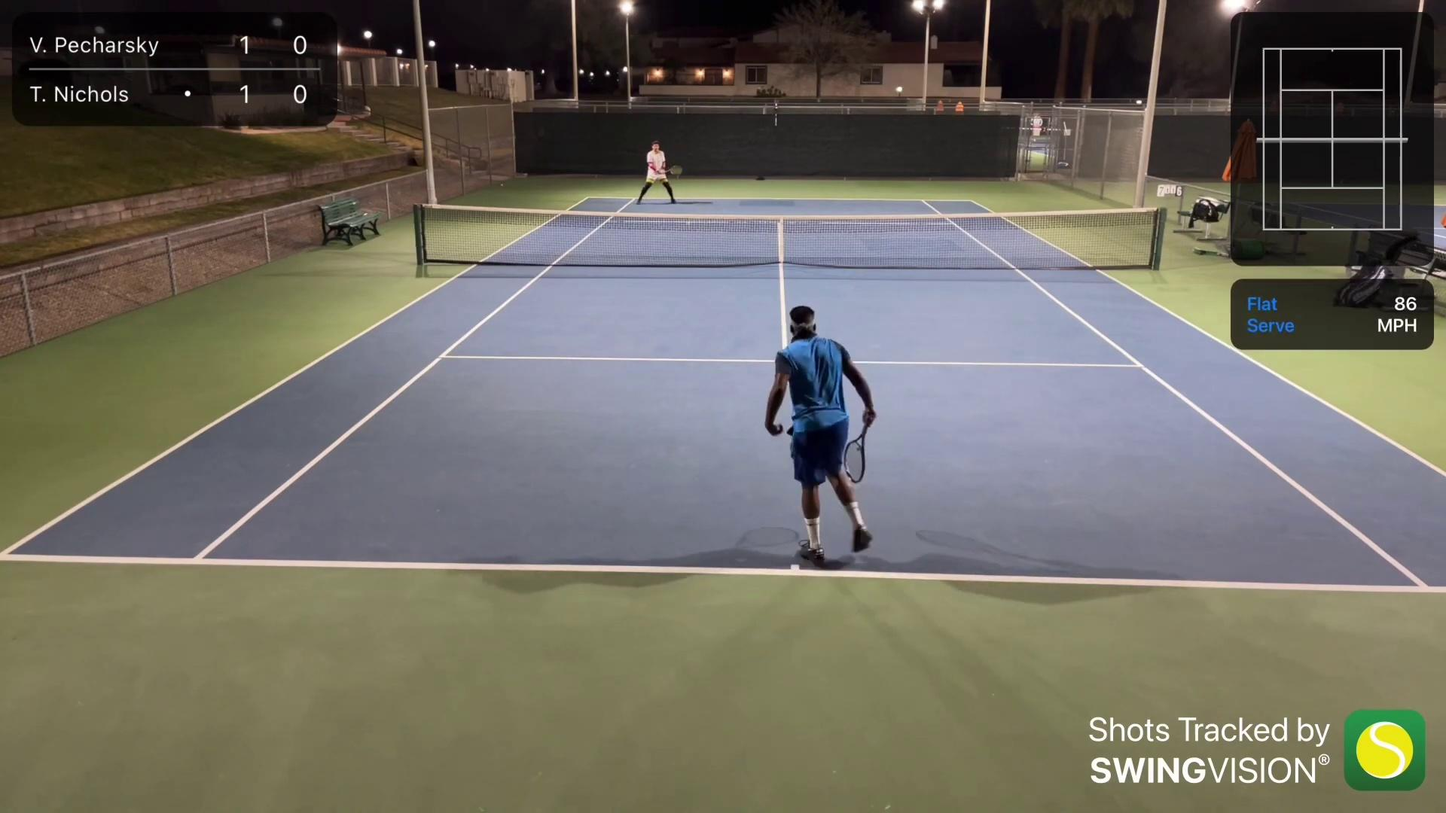ball: (497, 183, 506, 187)
